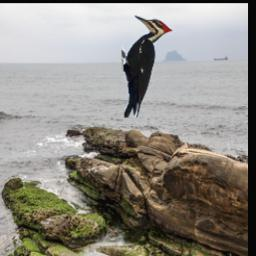Woodpecker: (122, 14, 173, 118)
